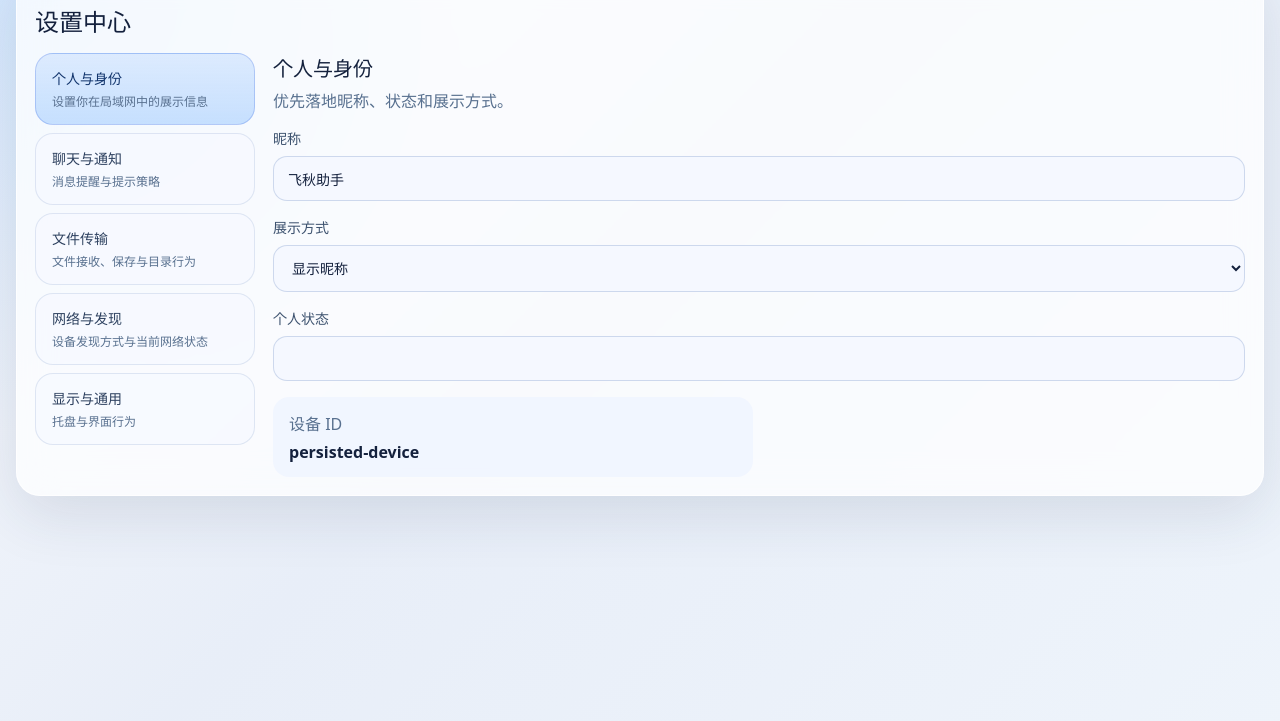
it: shows targeted troubleshooting suggestions for unmatched segment refresh failures
The width and height of the screenshot is (1280, 721).
Click the button "网络与发现 设备发现方式与当前网络状态": (145, 329) [35,293,255,365]
(page scrolled)
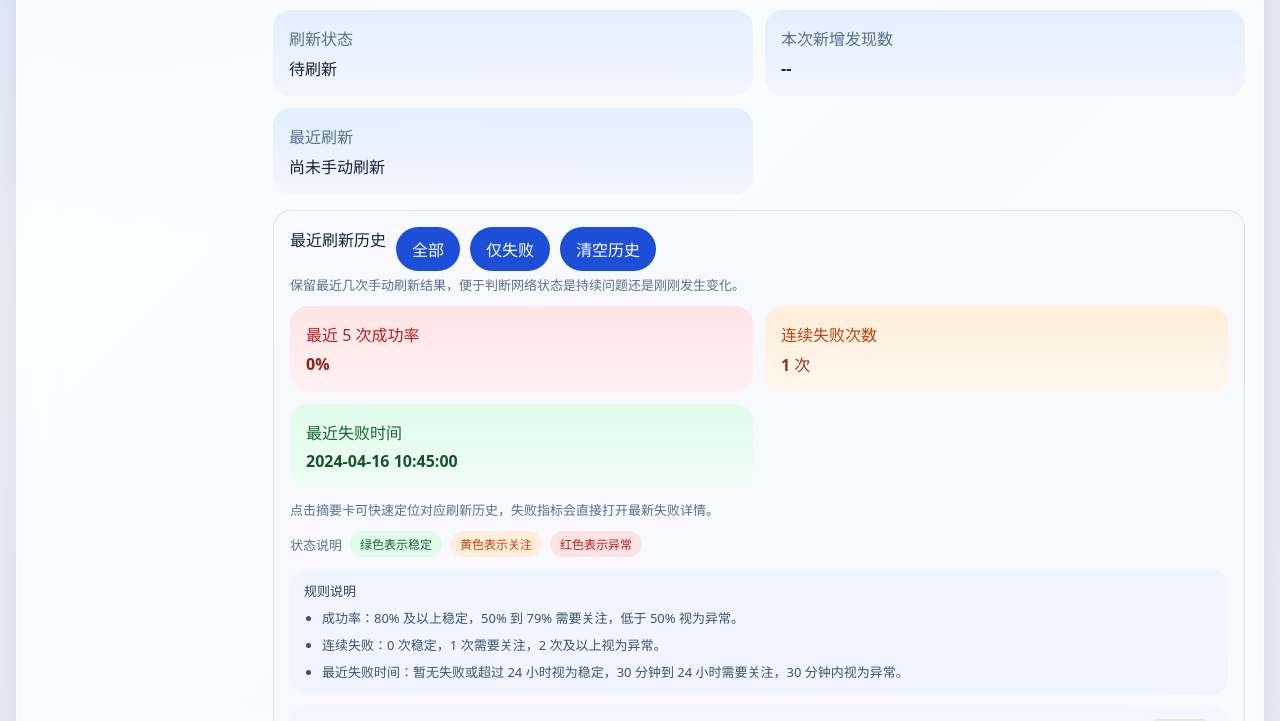
Click the button "连续失败次数 1 次": (829, 335) [781,322,1212,376]
(page scrolled)
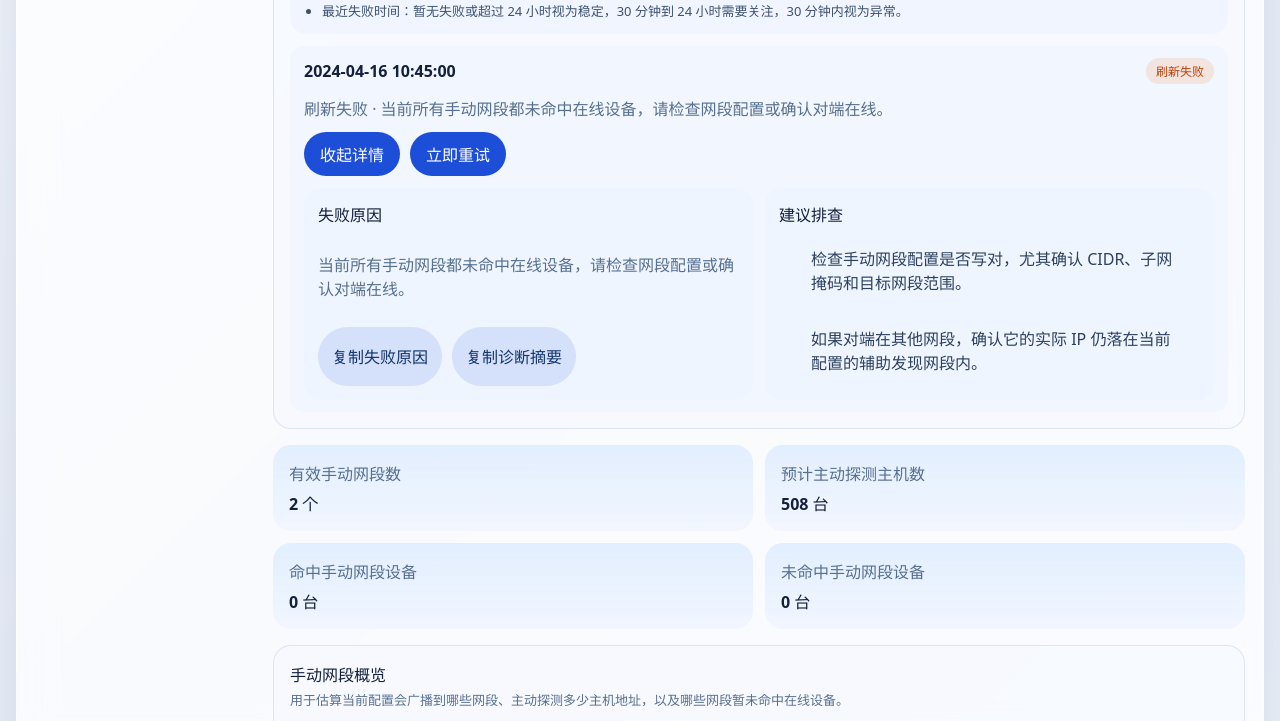
Result: the text "建议排查" is shown at [779,204,843,226]
Result: the list item "检查手动网段配置是否写对，尤其确认 CIDR、子网掩码和目标网段范围。" is shown at [797,234,1200,306]
Result: the list item "如果对端在其他网段，确认它的实际 IP 仍落在当前配置的辅助发现网段内。" is shown at [797,314,1200,386]
